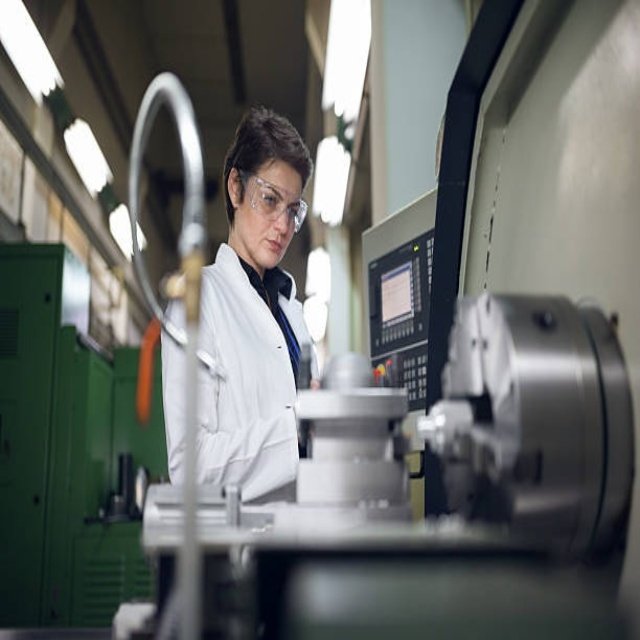Gafas: (241, 170, 307, 233)
Sin_mascara: (253, 235, 291, 265)
